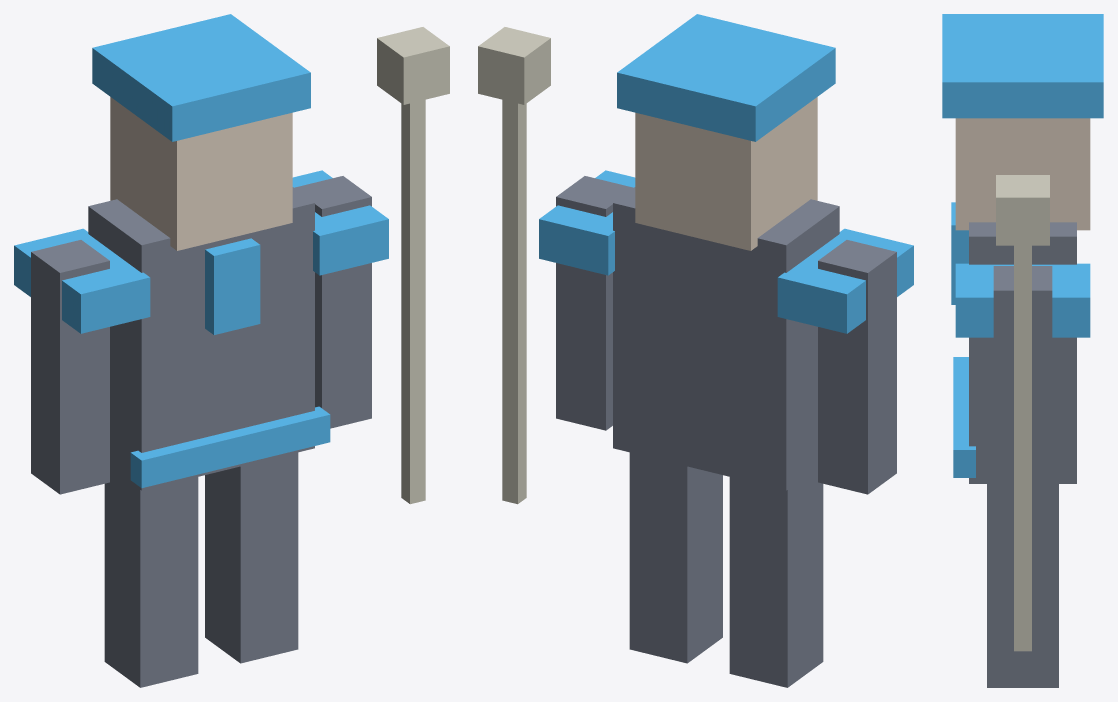
The model's file is 05_vale_spirebound_medic_from_power.glb.
3 views of the same model, side by side, from view 1: azimuth 30°, elevation 25°; view 2: azimuth 150°, elevation 25°; view 3: azimuth 270°, elevation 25° (orthographic).
Parts seen in each view (by area): view 1: Vale Spirebound, Medic from Power; view 2: Vale Spirebound, Medic from Power; view 3: Vale Spirebound, Medic from Power.
Boxes of the visible parts, bbox=[...] form: Vale Spirebound, Medic from Power: bbox=[14, 14, 449, 687]; Vale Spirebound, Medic from Power: bbox=[478, 14, 913, 687]; Vale Spirebound, Medic from Power: bbox=[942, 14, 1103, 687].
Size of the model in its own units: 1.03 by 1.51 by 0.3669.
